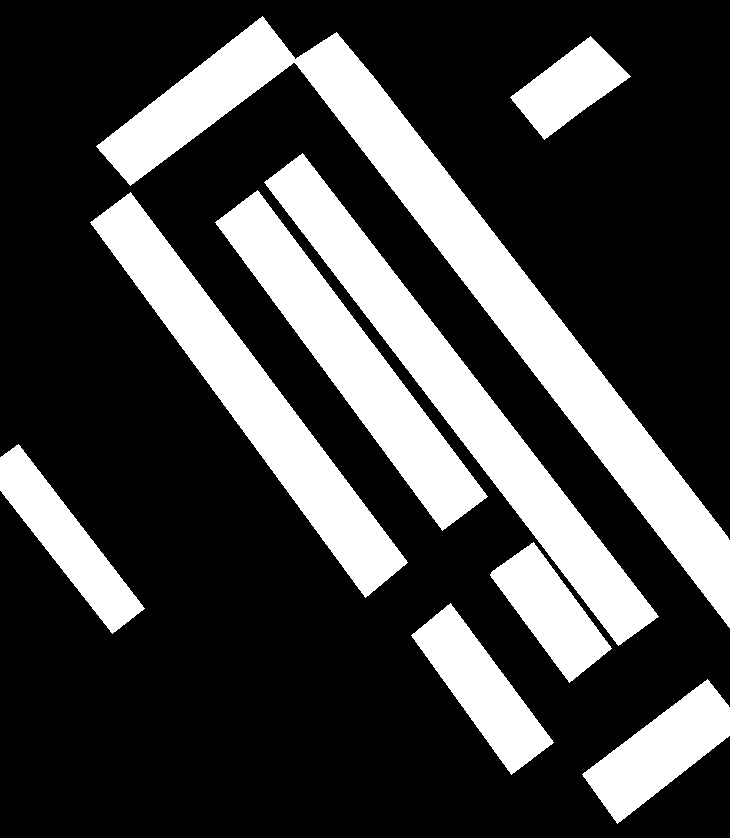parkingspot: (293, 32, 730, 628), (264, 153, 658, 645), (90, 192, 407, 597), (215, 190, 487, 530), (96, 16, 296, 185), (0, 444, 144, 633), (411, 603, 553, 774), (582, 679, 730, 823), (490, 542, 611, 682), (510, 36, 630, 139)
